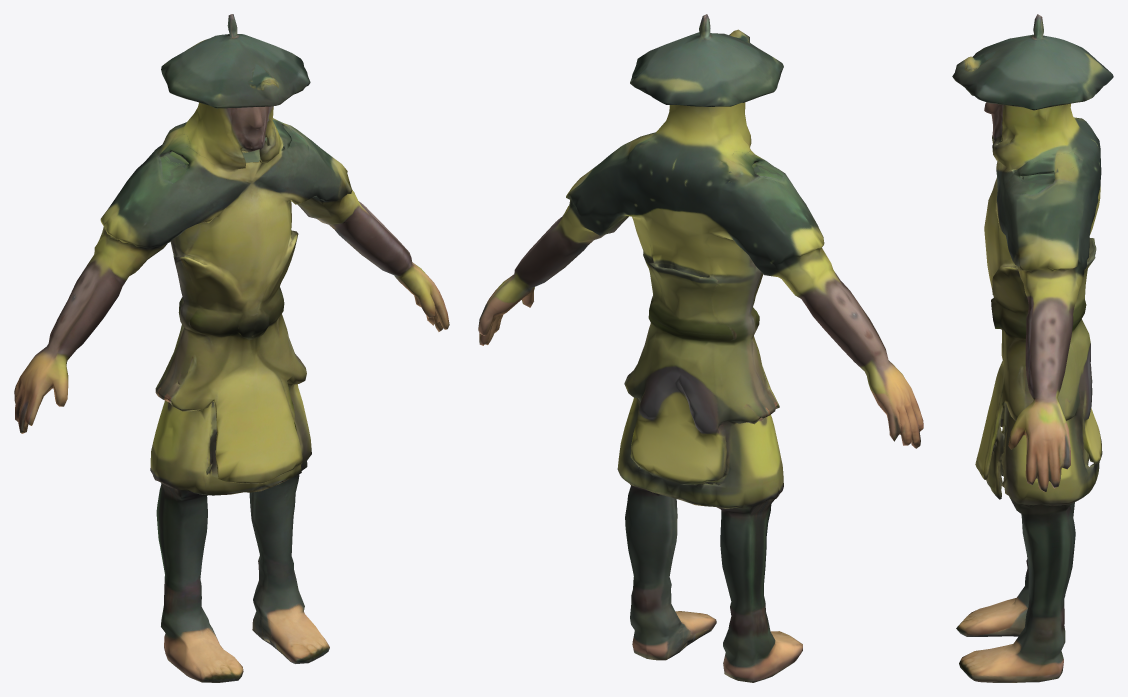
The model's file is Meshy_AI_Warrior_Pose_1228173906_texture.fbx.
3 views of the same model, side by side, from view 1: azimuth 30°, elevation 25°; view 2: azimuth 150°, elevation 25°; view 3: azimuth 270°, elevation 25° (orthographic). The views are drawn at different scales.
Parts seen in each view (by area): view 1: Mesh_0; view 2: Mesh_0; view 3: Mesh_0.
Boxes of the visible parts, x1=… form: Mesh_0: x1=14, y1=14, x2=449, y2=682; Mesh_0: x1=478, y1=14, x2=923, y2=682; Mesh_0: x1=952, y1=14, x2=1113, y2=682.
Size of the model in its own units: 141 by 200 by 46.13.
1 material, 1 textured.
